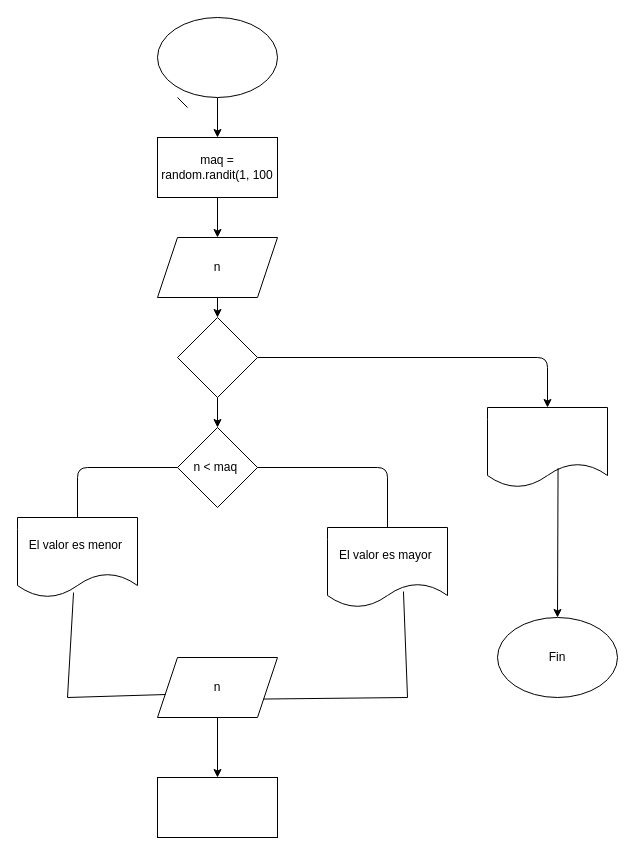
The diagram is 635 pixels wide and 855 high, and some of its shapes have lost their labels. The shapes that lost their labels are listed below. From the top down, each one's centre as x and y in pixels, then its label:
At (x=217, y=57): "Inicio".
At (x=217, y=357): "n != maq".
At (x=547, y=447): "Atino".
At (x=217, y=807): "i = i +1".
